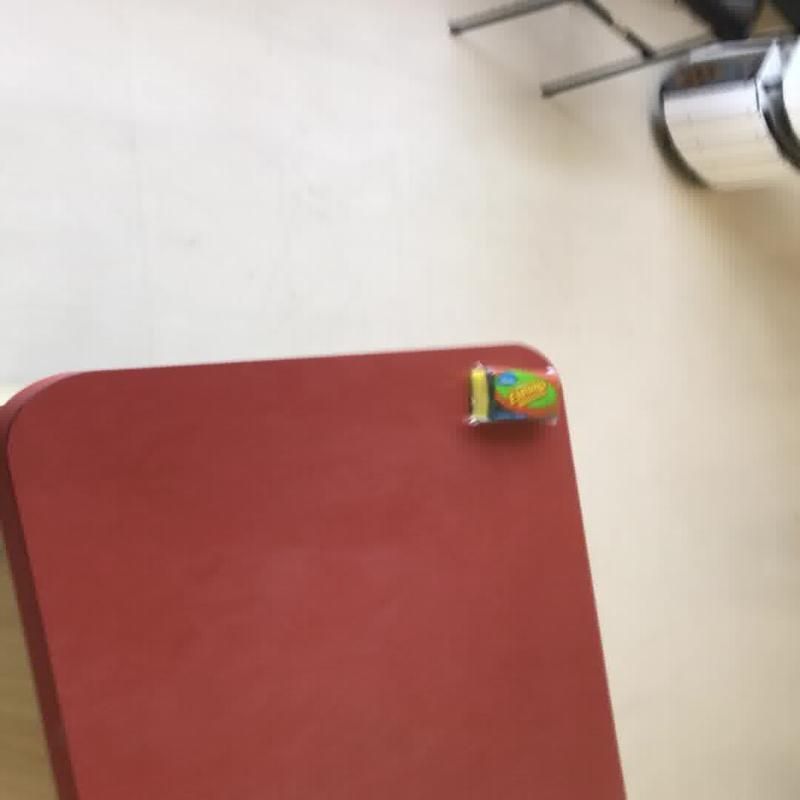sponge: (1, 340, 629, 798), (465, 360, 559, 426)
